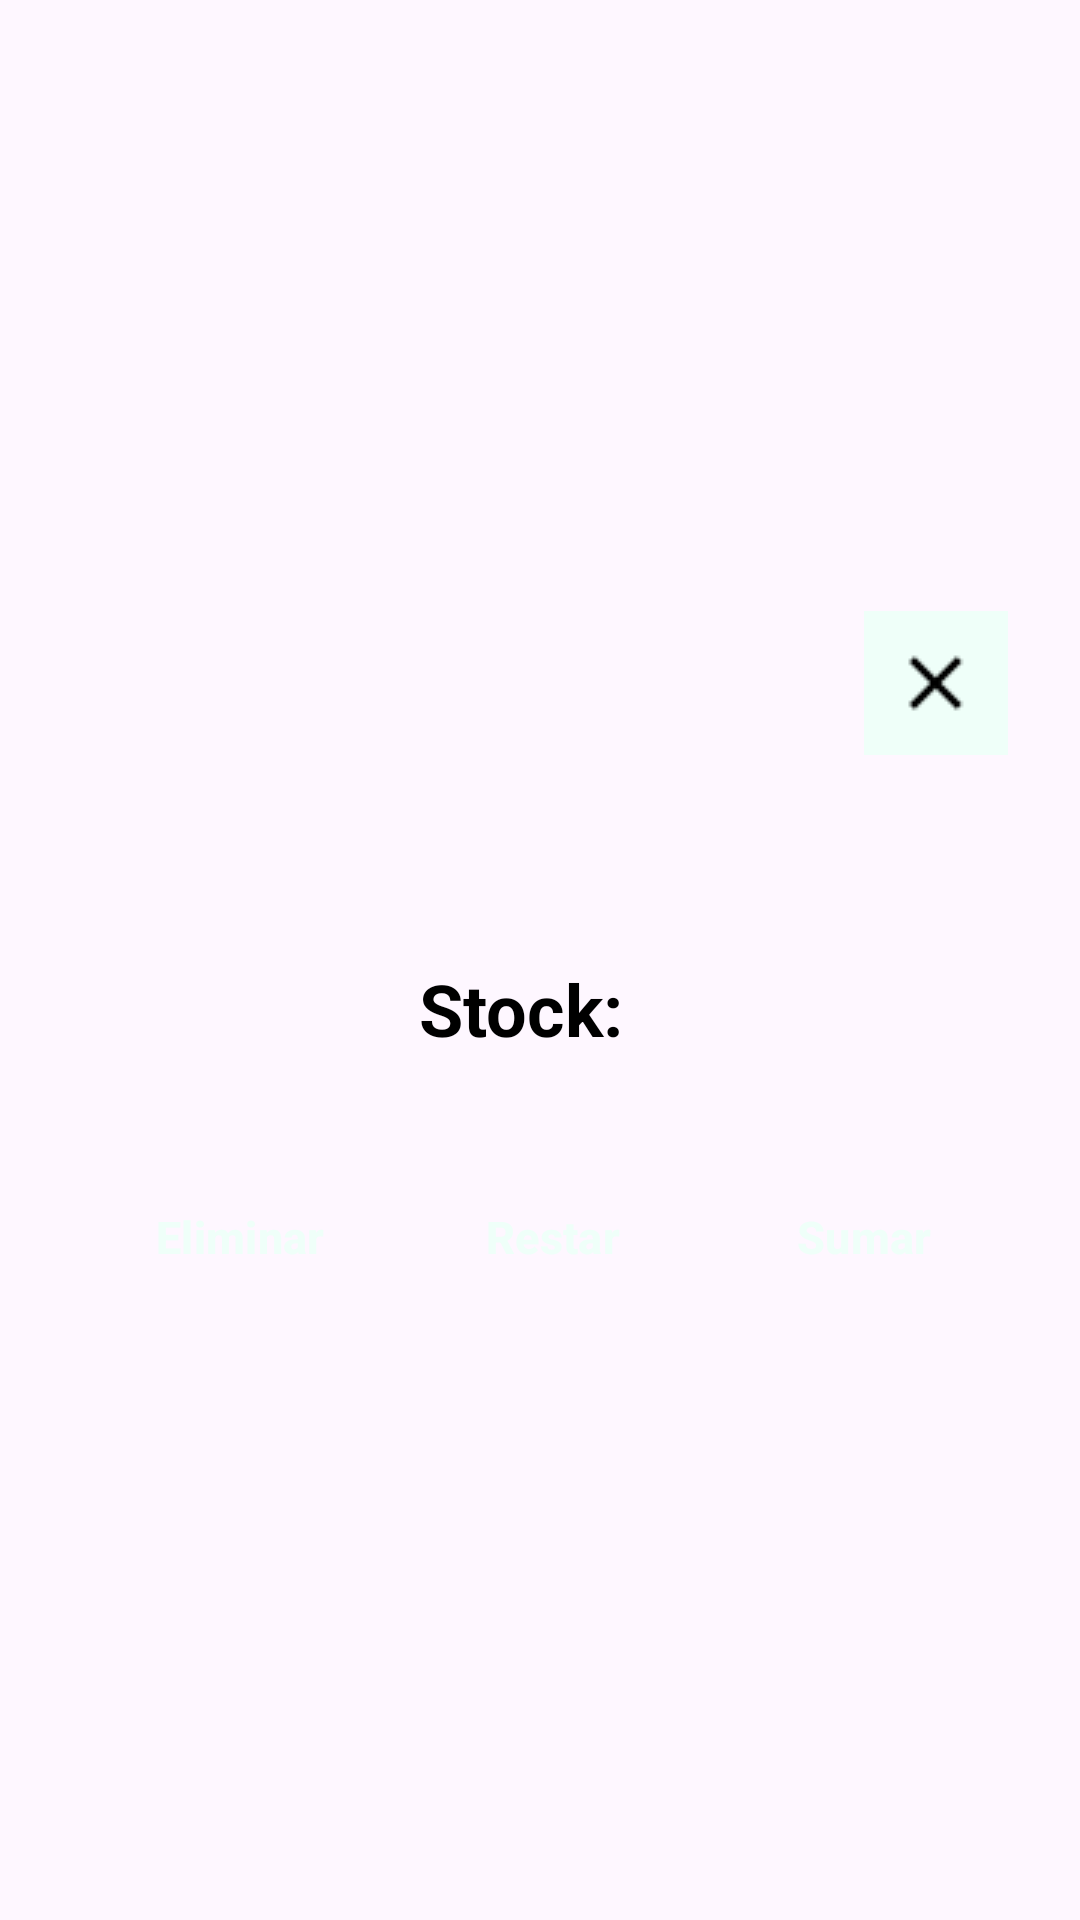

Screen size 1080 x 1920. Icon name, then its box in pixels as (x1, y1, x2, y2):
cruz: (908, 655, 964, 711)
